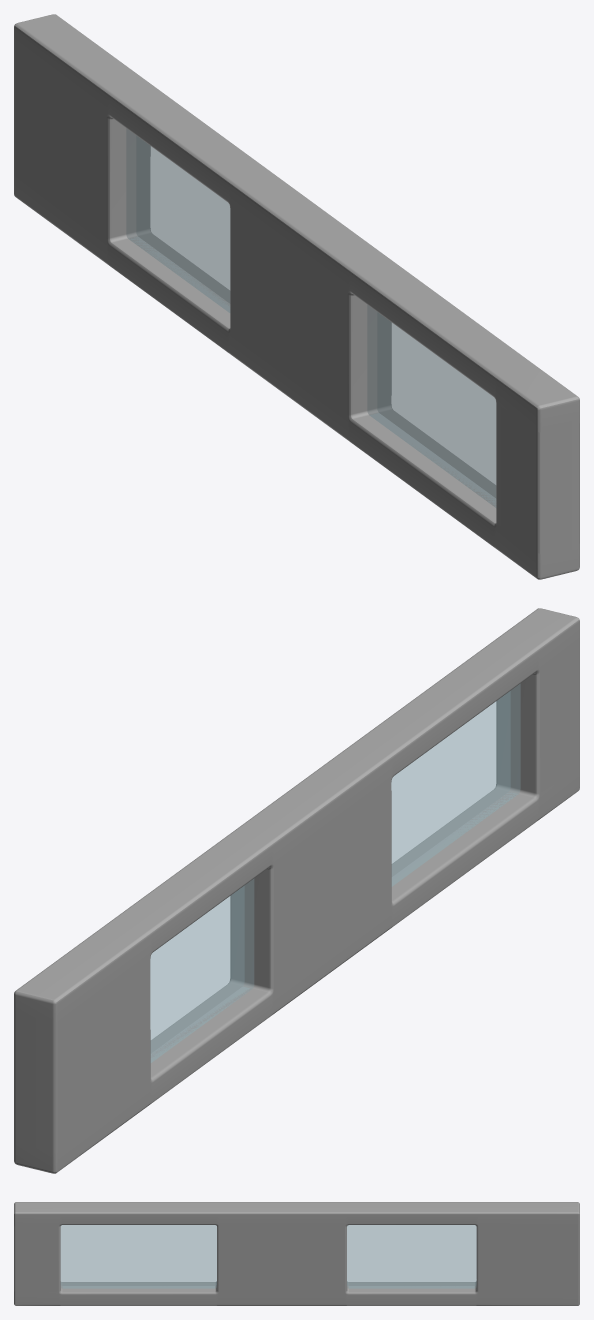
Rendered from UpgradedRightWall.fbx.
3 renders of one model, top to bottom at view 1: azimuth 30°, elevation 25°; view 2: azimuth 150°, elevation 25°; view 3: azimuth 270°, elevation 25°, orthographic. The views are drawn at different scales.
Visible parts, largest first — view 1: pCube17; view 2: pCube17; view 3: pCube17.
Part boxes in pixels (left/top/right/bottom): pCube17: left=14, top=14, right=579, bottom=579; pCube17: left=14, top=608, right=579, bottom=1173; pCube17: left=14, top=1202, right=579, bottom=1305.
Bounding box in the file's own units: 1 × 3.85 × 21.04.
